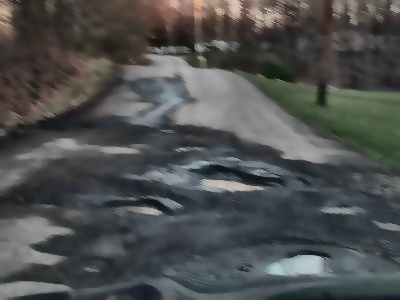pothole: (189, 163, 280, 192), (259, 248, 332, 278), (81, 283, 164, 299), (107, 197, 169, 218), (319, 202, 358, 213)
